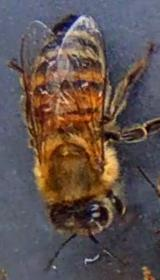varroa_mite: (32, 99, 58, 122)
